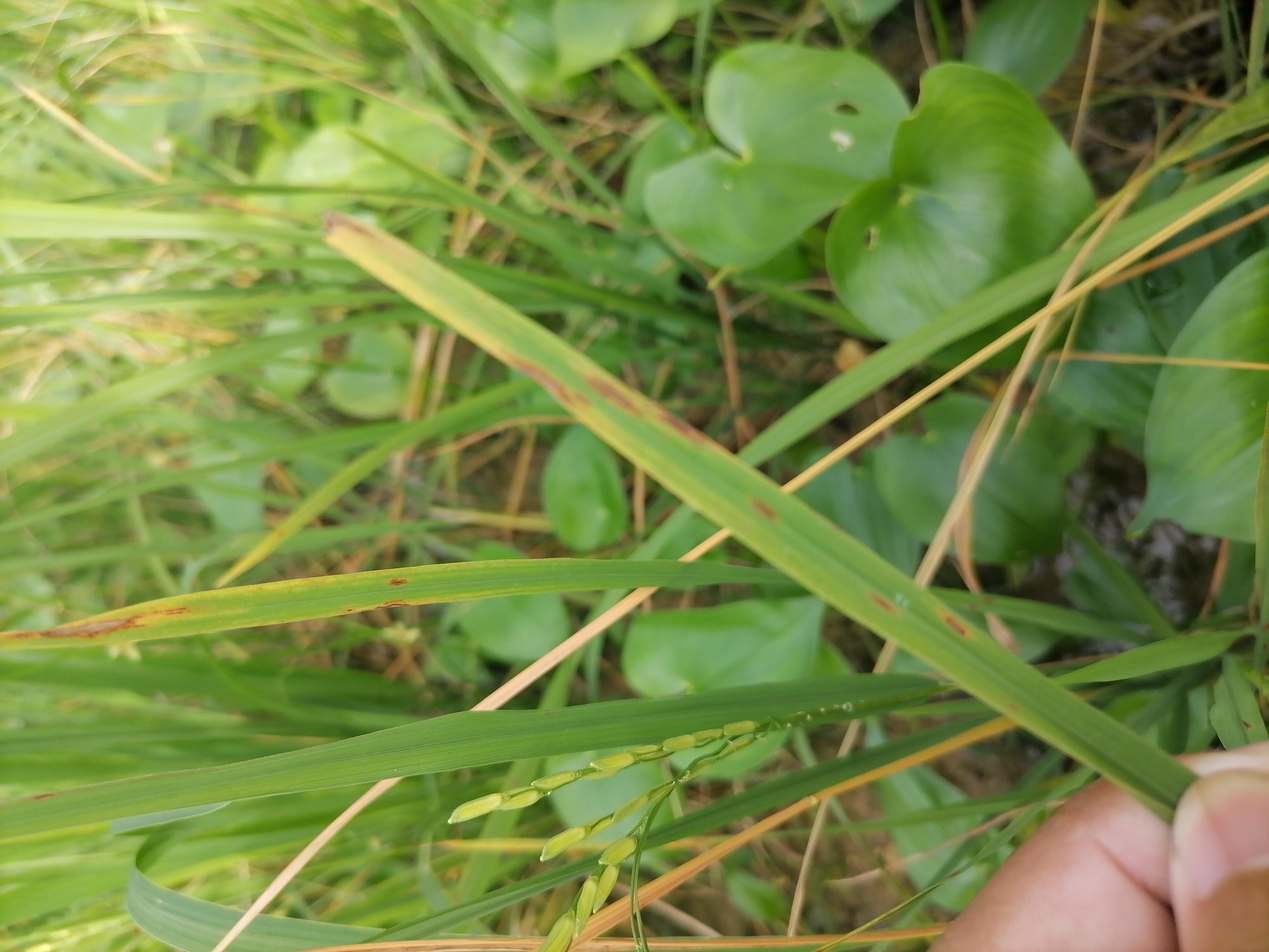Brown spot: (485, 289, 503, 312)
Rice blast: (418, 18, 442, 136)
